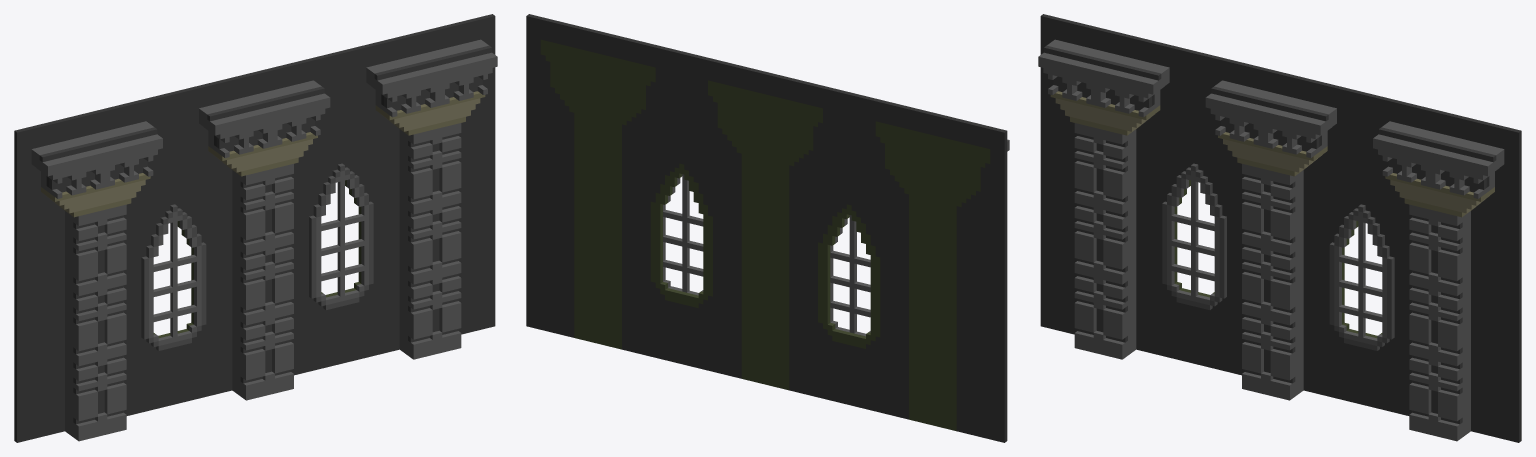
The model's file is Background.obj.
3 renders of one model, left to right at view 1: azimuth 30°, elevation 25°; view 2: azimuth 150°, elevation 25°; view 3: azimuth 330°, elevation 25°, orthographic.
Visible parts, largest first — view 1: Untitled; view 2: Untitled; view 3: Untitled.
Part boxes in pixels (left/top/right/bottom): Untitled: left=14, top=14, right=497, bottom=442; Untitled: left=526, top=14, right=1009, bottom=442; Untitled: left=1038, top=14, right=1521, bottom=442.
Size of the model in its own units: 100 by 62 by 7.
